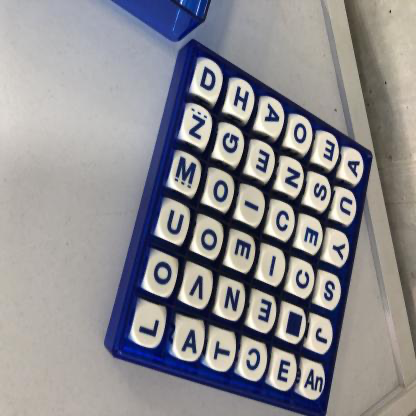a: (176, 319, 204, 361), (260, 98, 285, 133), (343, 150, 364, 183)
an: (303, 362, 326, 400)
c: (242, 341, 268, 380), (270, 202, 296, 238), (292, 262, 315, 297)
d: (196, 62, 223, 99)
e: (249, 142, 276, 179), (253, 293, 277, 333), (231, 233, 255, 270), (273, 354, 297, 391), (300, 216, 323, 254), (318, 133, 340, 167)
g: (219, 126, 244, 162)
h: (229, 81, 255, 117)
i: (261, 246, 286, 285), (240, 188, 266, 224)
j: (310, 319, 333, 354)
l: (134, 304, 165, 348)
m: (173, 156, 201, 193)
n: (219, 280, 246, 320), (280, 158, 305, 194)
o: (147, 256, 178, 296), (208, 171, 235, 209), (197, 218, 224, 256), (290, 116, 314, 150)
s: (309, 175, 332, 210), (320, 274, 342, 307)
t: (209, 329, 237, 373)
u: (160, 204, 189, 242), (336, 188, 358, 224)
v: (185, 266, 213, 306)
wild: (282, 306, 306, 344)
y: (328, 232, 350, 266)
z: (183, 107, 212, 146)
